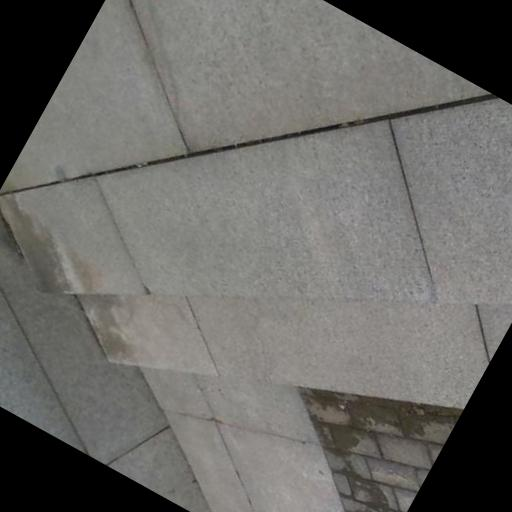stairs: (0, 0, 511, 406)
